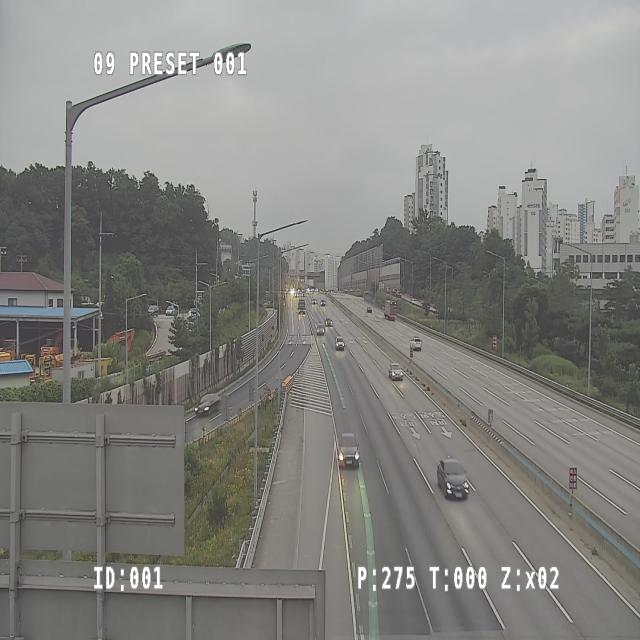Car: (438, 458, 470, 501), (338, 433, 360, 470), (194, 394, 221, 418), (389, 363, 403, 382), (410, 337, 422, 352), (336, 336, 344, 352), (363, 302, 372, 316), (325, 316, 335, 328), (316, 324, 324, 336), (312, 296, 318, 308), (319, 299, 326, 308)
Truck: (384, 300, 397, 322), (298, 299, 306, 315)
